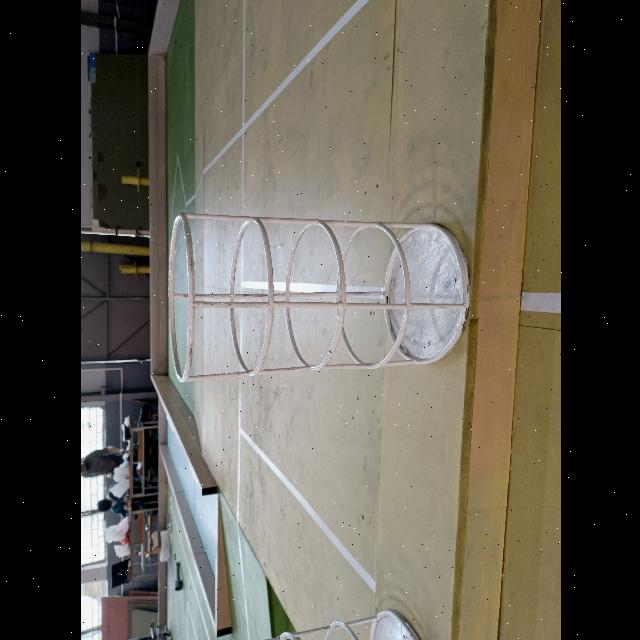S: (169, 214, 470, 385), (235, 608, 419, 640)
